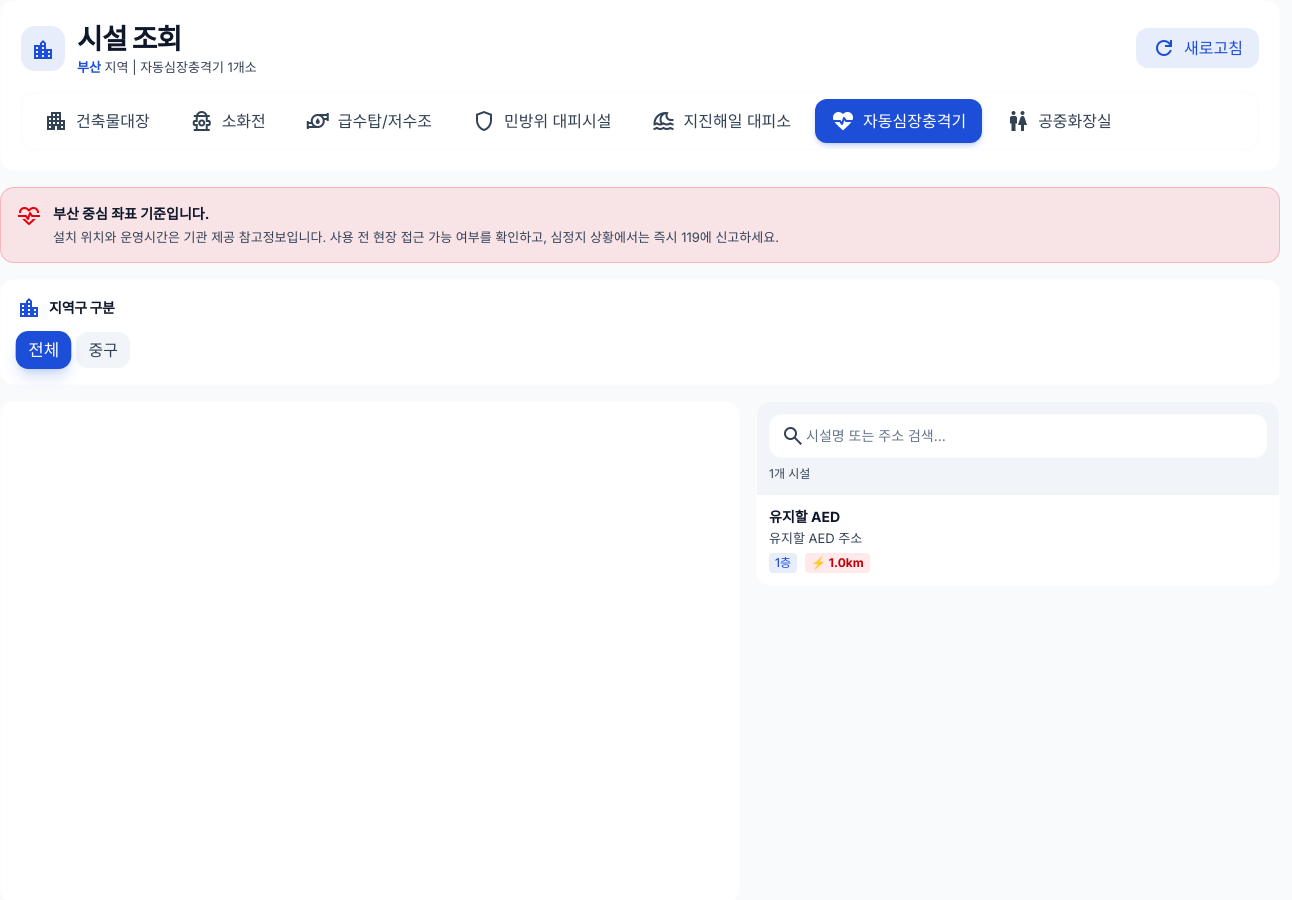
FacilitySearchView request ordering › keeps the last successful list when a same-context refresh fails
Expected: the text "유지할 AED" is shown, x1=769 y1=508 x2=840 y2=525
Click the button "새로고침".
click(1198, 48)  # box x1=1136 y1=28 x2=1259 y2=68
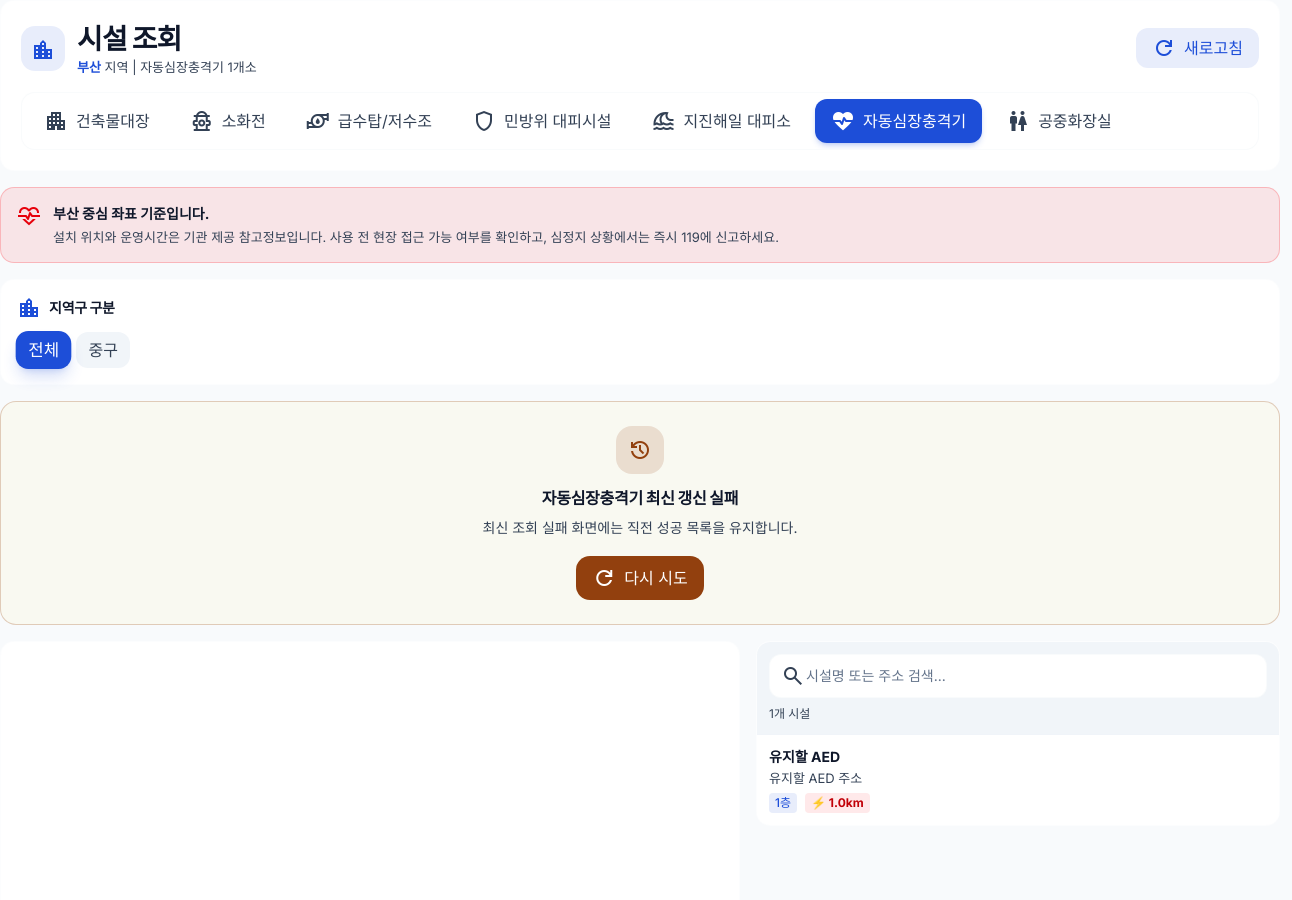
Expected: the text "유지할 AED" is shown, x1=769 y1=748 x2=840 y2=765
Now the heading "자동심장충격기 최신 갱신 실패" is shown, box x1=542 y1=487 x2=738 y2=509
Now the text "최신 조회 실패 화면에는 직전 성공 목록을 유지합니다." is shown, box x1=482 y1=519 x2=798 y2=536
